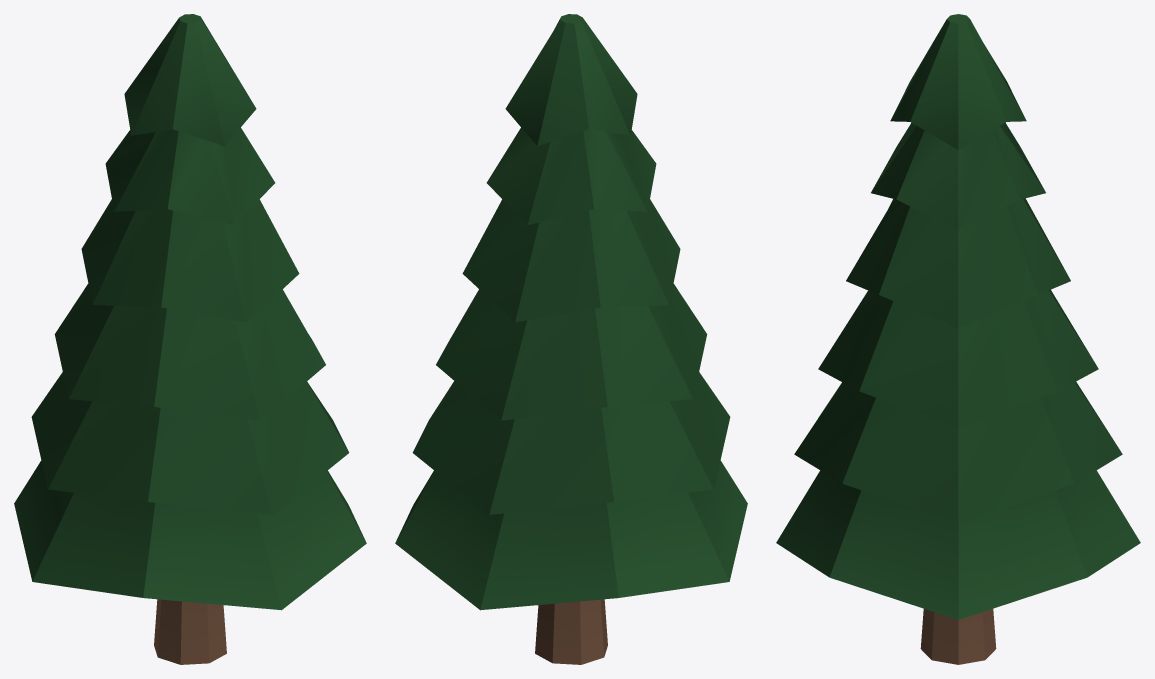
Rendered from obj_tree2_2.fbx.
3 renders of one model, left to right at view 1: azimuth 30°, elevation 25°; view 2: azimuth 150°, elevation 25°; view 3: azimuth 270°, elevation 25°, orthographic.
Parts seen in each view (by area): view 1: obj_tree2_2; view 2: obj_tree2_2; view 3: obj_tree2_2.
Part boxes in pixels (box(x1,y1,x2,y2)): obj_tree2_2: box(14, 14, 366, 664); obj_tree2_2: box(395, 14, 747, 664); obj_tree2_2: box(776, 14, 1140, 664).
Bounding box in the file's own units: 2.24 × 4.27 × 2.24.
1 material, 1 textured.
